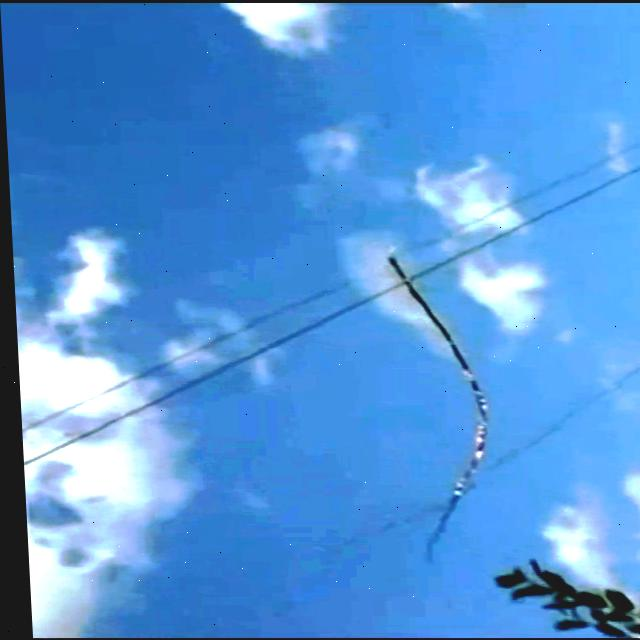obstruction: (384, 254, 482, 534)
wires: (19, 281, 402, 464), (17, 283, 340, 434), (410, 163, 640, 279), (410, 154, 616, 249)
